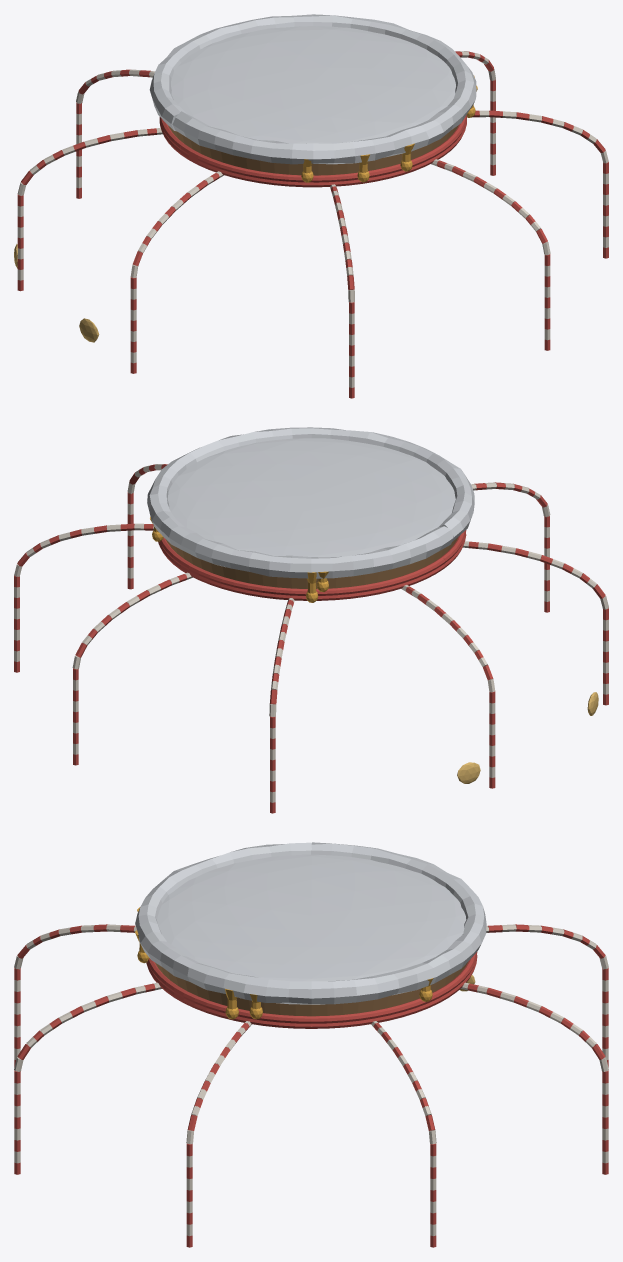
Rendered from goo_jar_trim_1_top@winter.fbx.
3 views of the same model, one above another, from view 1: azimuth 30°, elevation 25°; view 2: azimuth 150°, elevation 25°; view 3: azimuth 270°, elevation 25° (orthographic). The views are drawn at different scales.
Parts seen in each view (by area): view 1: goo_jar_trim_1_top; view 2: goo_jar_trim_1_top; view 3: goo_jar_trim_1_top.
Part boxes in pixels (box(x1,y1,x2,y2)): goo_jar_trim_1_top: box(14, 14, 608, 398); goo_jar_trim_1_top: box(14, 427, 608, 813); goo_jar_trim_1_top: box(14, 842, 608, 1247).
Bounding box in the file's own units: 60.32 × 22.69 × 58.29.
